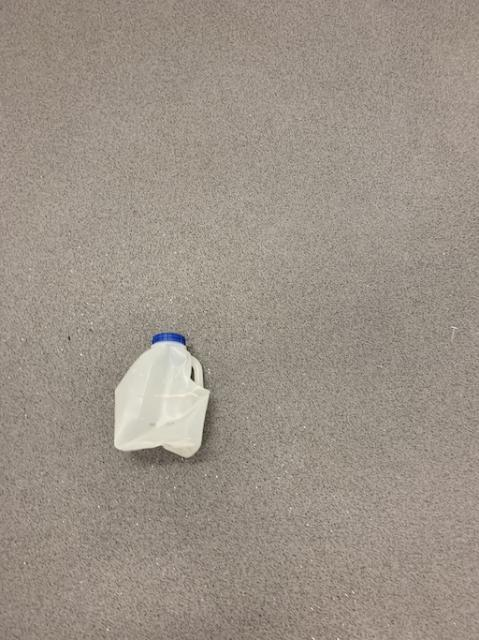plastic: (113, 332, 208, 455)
